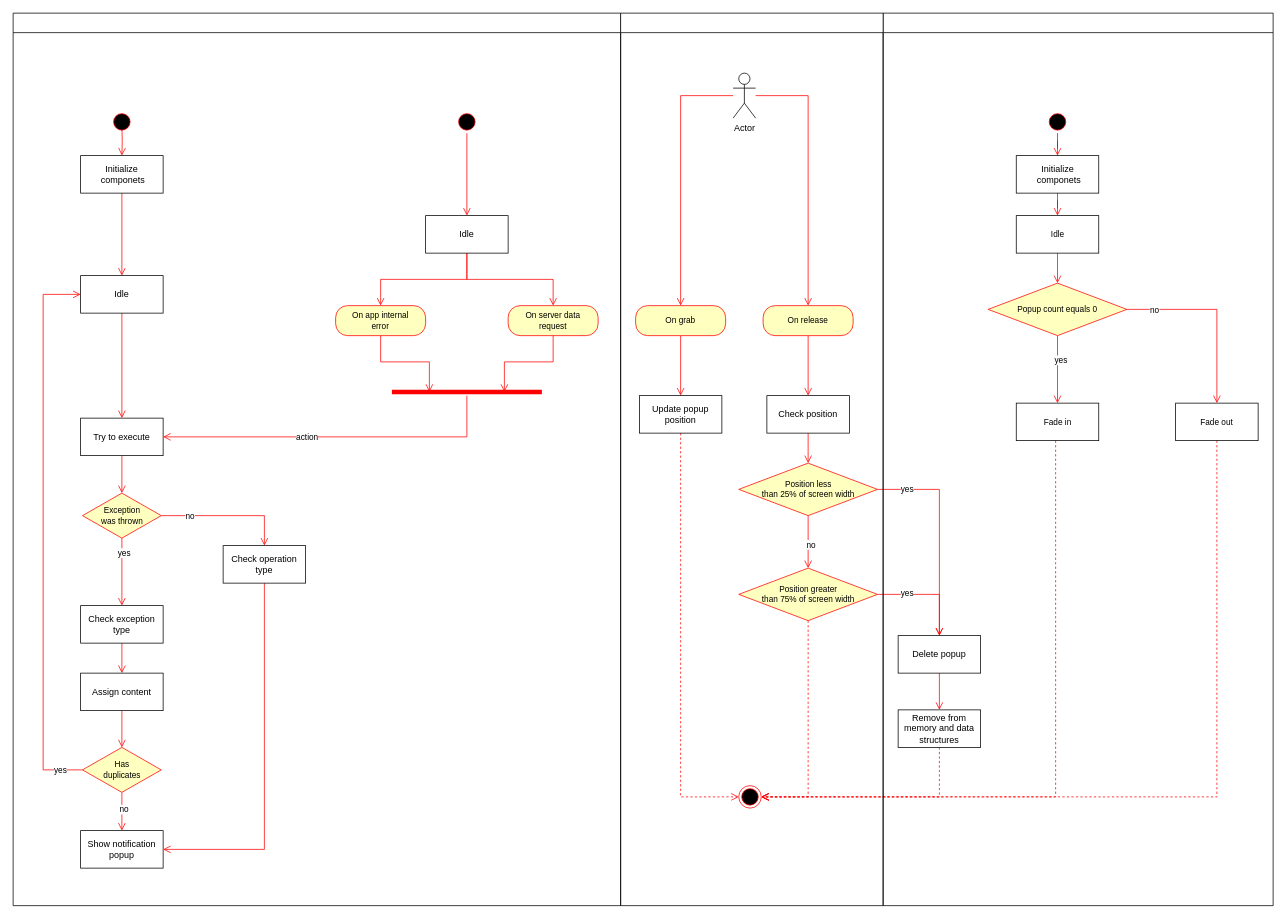
Image size: 1286x919. Some labels were removed from this diagram. Here are the shapes that lost their labels. From the top down, the centre of each, then its label:
the point at 316,459: Controller
the point at 751,459: View
the point at 1077,459: Model
